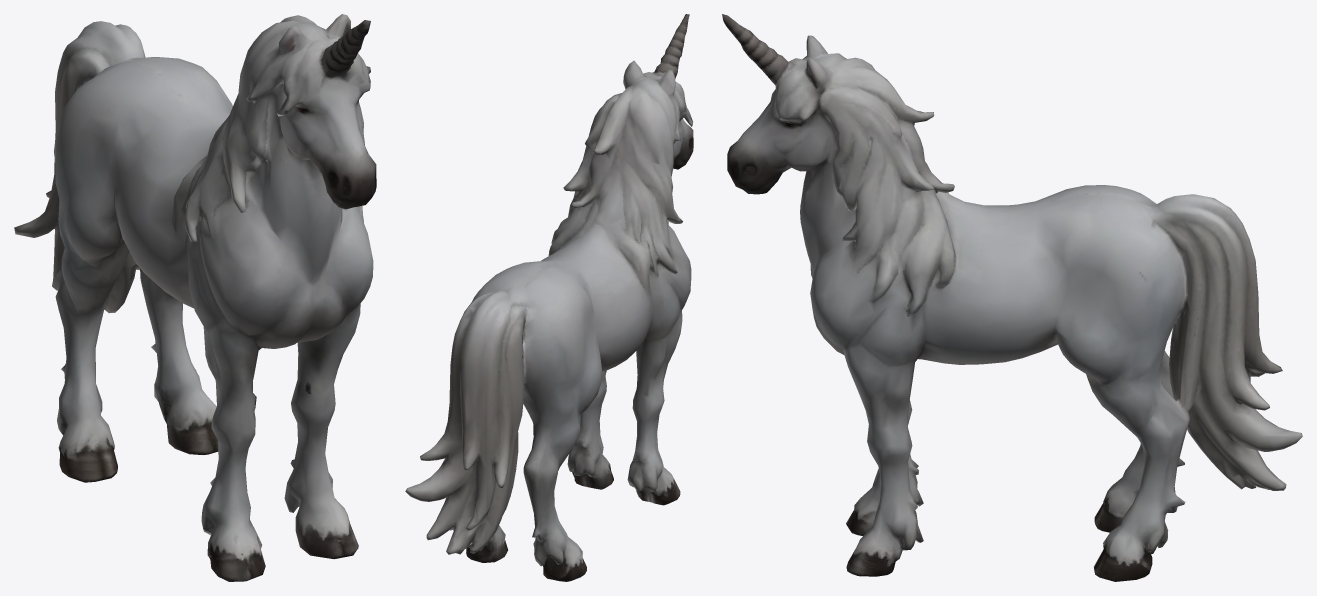
Rendered from detail_13_lo.glb.
3 renders of one model, left to right at view 1: azimuth 30°, elevation 25°; view 2: azimuth 150°, elevation 25°; view 3: azimuth 270°, elevation 25°, orthographic. The views are drawn at different scales.
Visible parts, largest first — view 1: Mesh_0.001; view 2: Mesh_0.001; view 3: Mesh_0.001.
Part boxes in pixels (<box>): Mesh_0.001: <box>14,14,376,581</box>; Mesh_0.001: <box>405,14,693,581</box>; Mesh_0.001: <box>722,14,1302,581</box>.
Size of the model in its own units: 0.2936 by 1.01 by 0.9922.
Materials: 1 (1 with a texture image).
